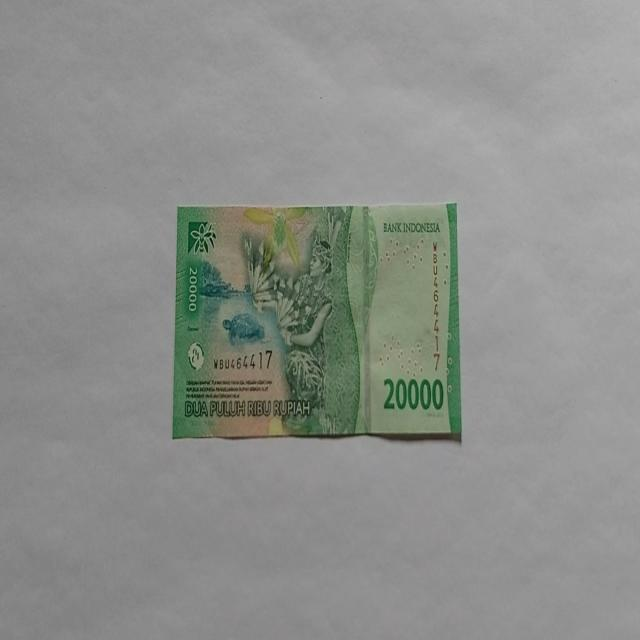dua puluh ribu rupiah: (172, 201, 462, 443), (241, 206, 373, 437)
